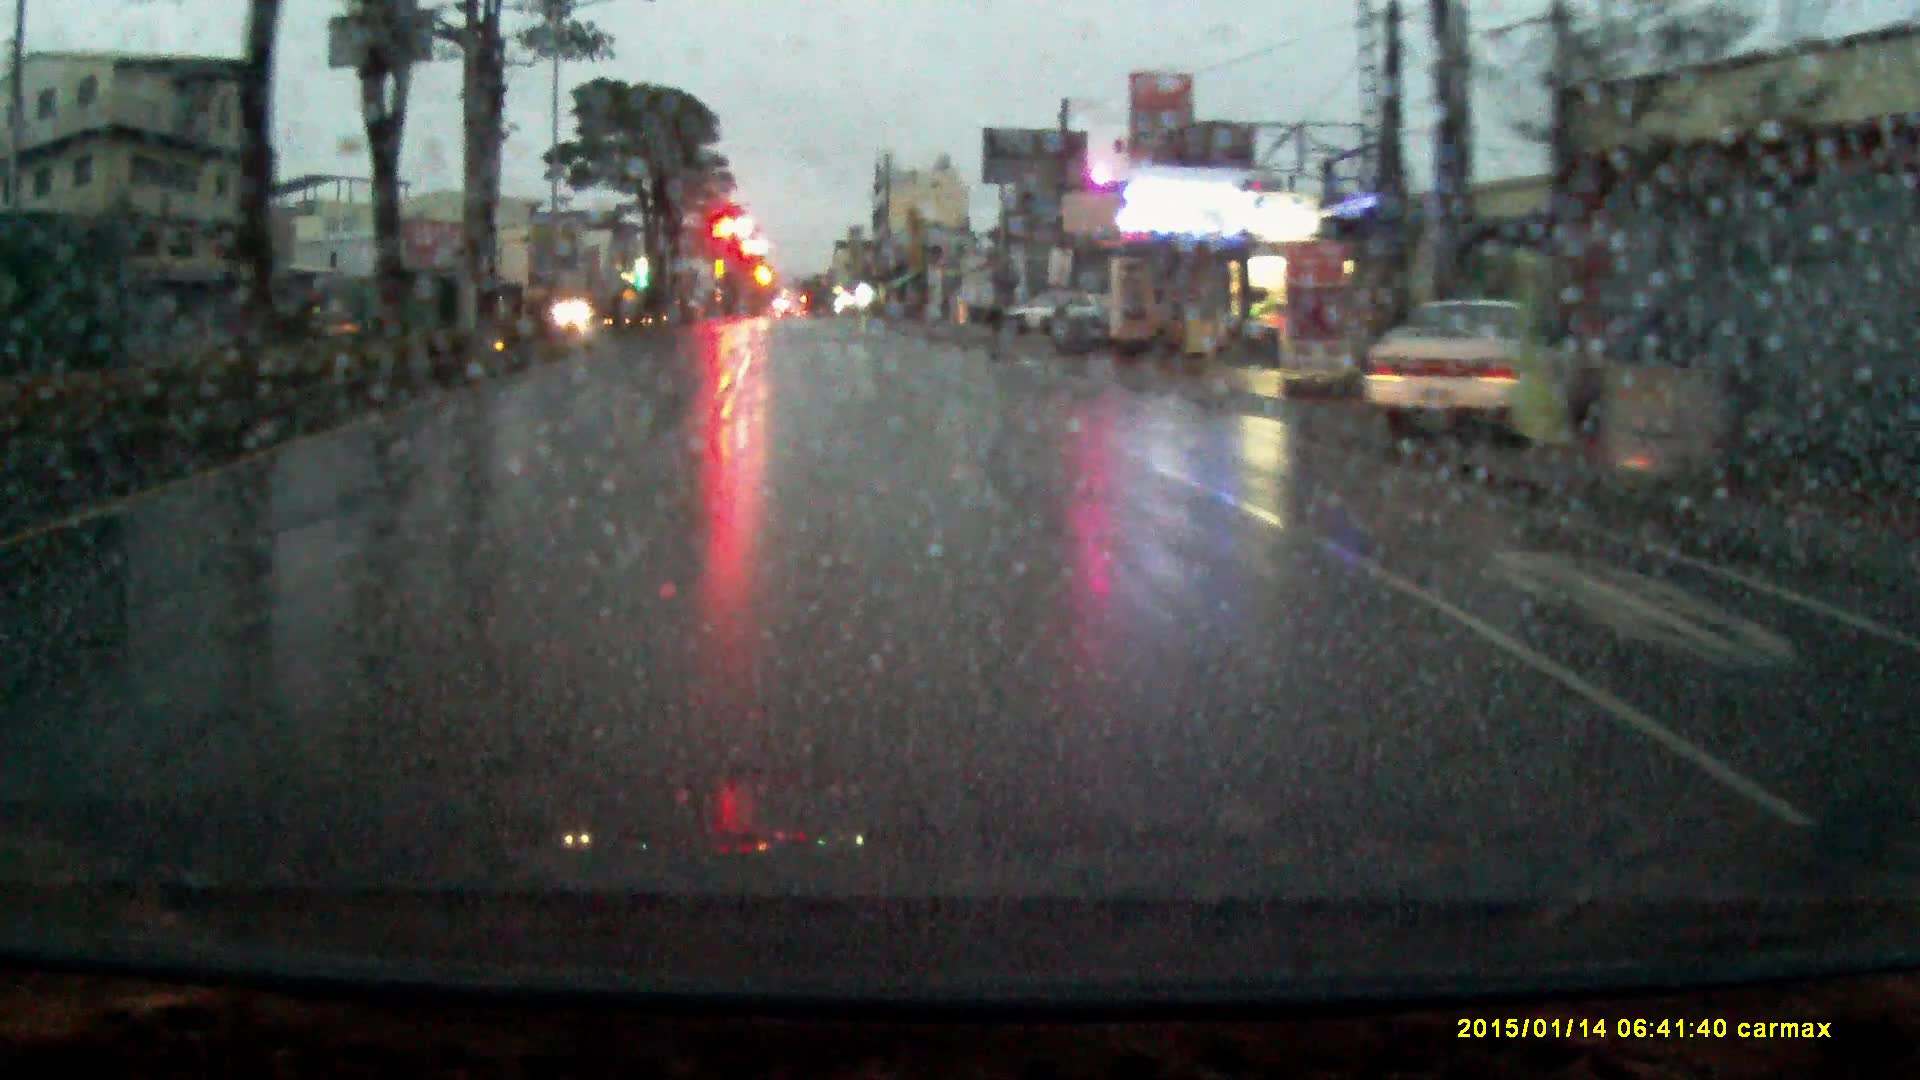vehicle: (1360, 287, 1594, 436), (1005, 291, 1100, 335), (555, 297, 601, 330)
